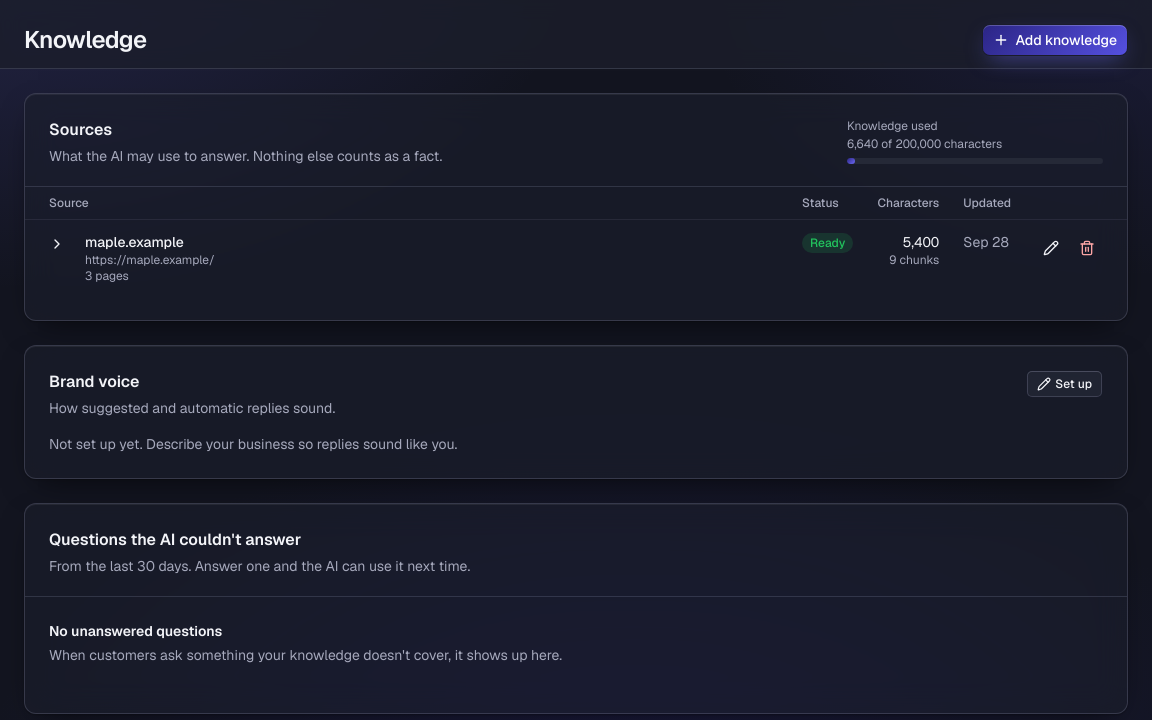
Test: A website's pages (GR-35) › with the weekly check off, the panel says it is not checked again by itself
Click the button named "Show pages of maple.example".
click(57, 244)  # box [41,228,73,260]
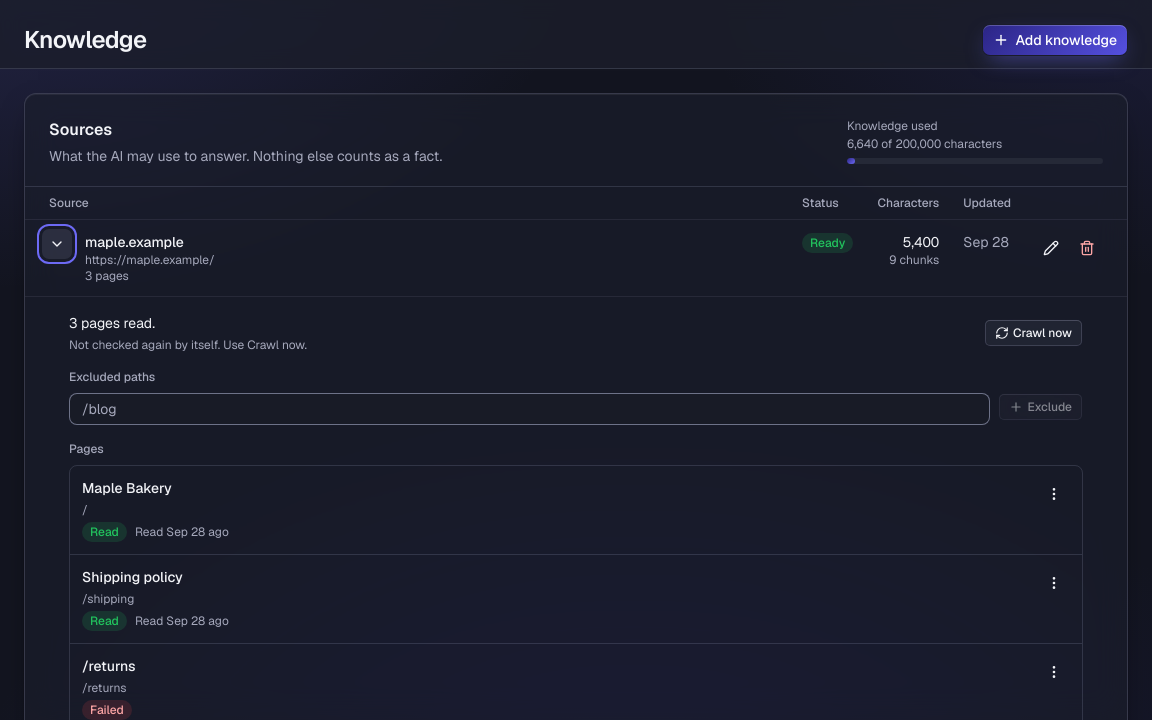
Expected: the text "Shipping policy" is shown, [82,568,183,586]
Expected: the text "Not checked again by itself. Use Crawl now." is shown, [69,337,307,353]
